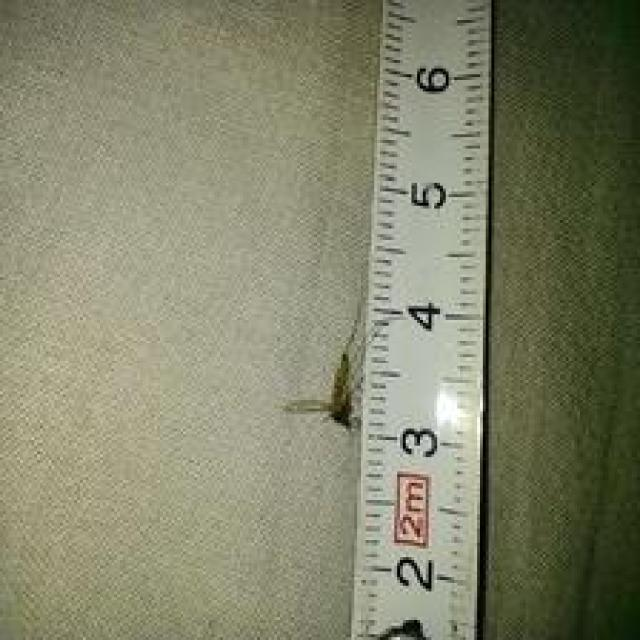Culex: (284, 0, 499, 640)
